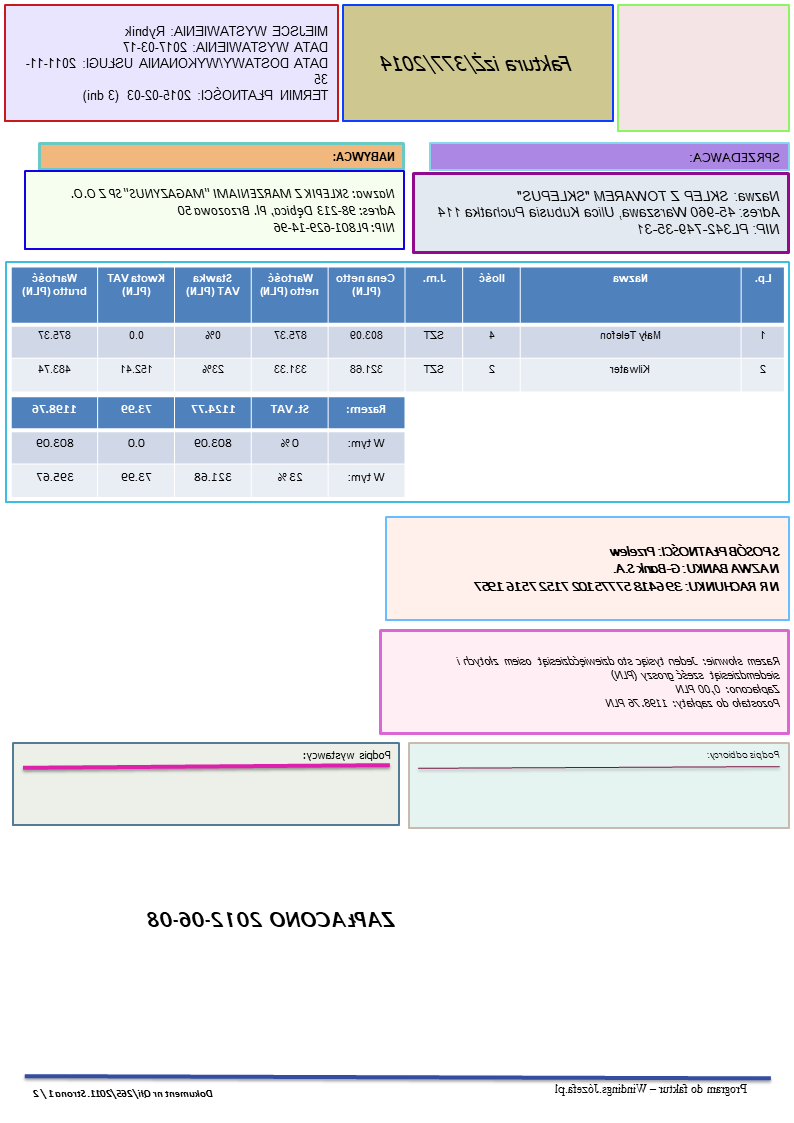Table: (10, 264, 786, 394), (9, 394, 408, 499)
TextBox: (22, 20, 331, 107), (450, 652, 782, 711), (436, 186, 783, 240), (472, 540, 783, 598), (68, 183, 398, 237), (146, 906, 397, 932), (376, 50, 577, 77), (554, 1077, 750, 1099), (30, 1083, 216, 1102), (688, 147, 785, 165), (301, 746, 395, 764), (706, 744, 783, 763), (332, 145, 399, 166)
